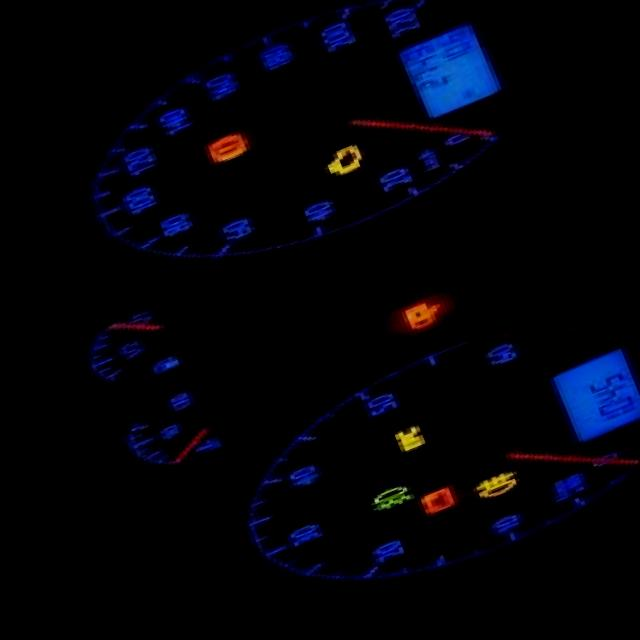kontrolka: (186, 111, 276, 181), (359, 474, 424, 519), (317, 134, 372, 182), (468, 462, 528, 506), (386, 417, 434, 458), (418, 481, 463, 518)
